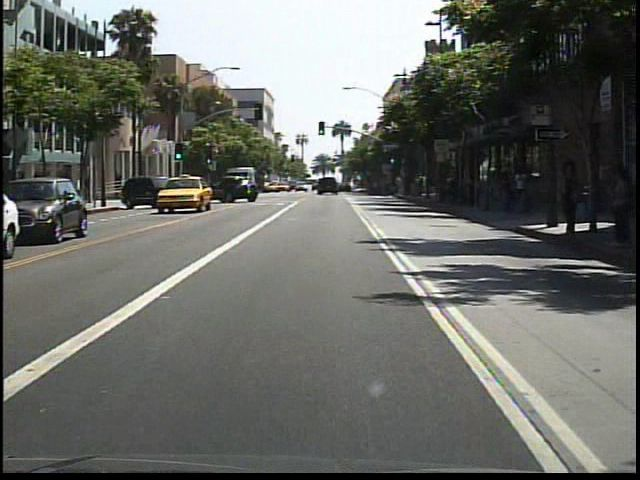person: (599, 164, 635, 246), (552, 157, 584, 241), (509, 166, 529, 212)
